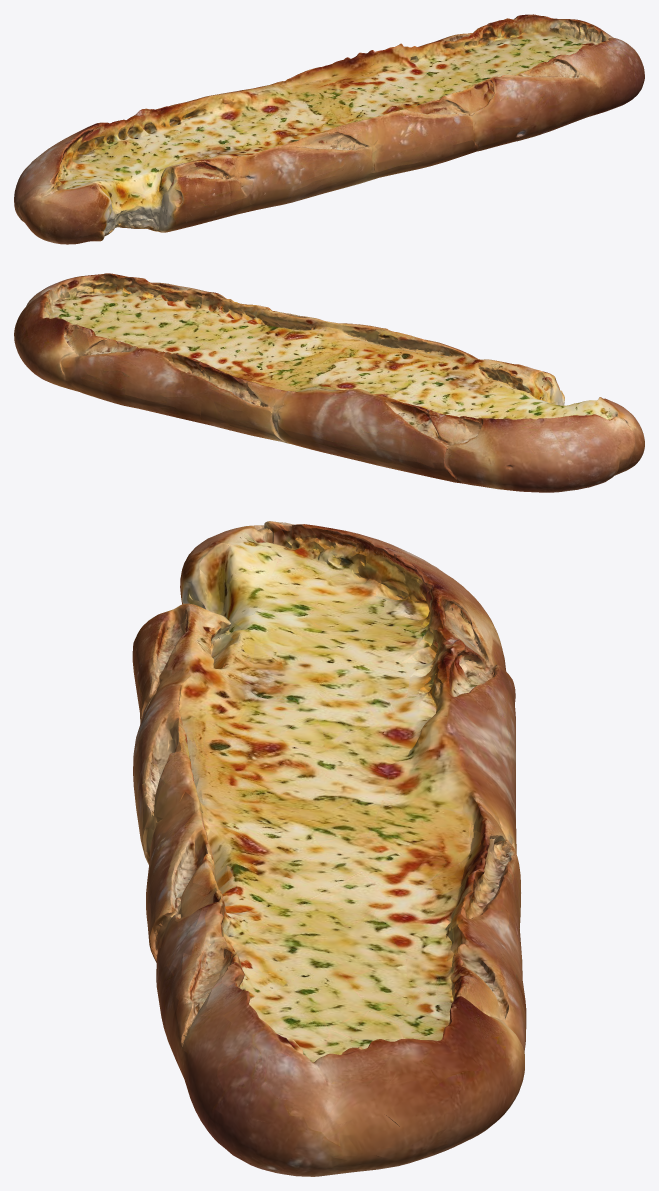
The model's file is sv_garlic.glb.
3 renders of one model, top to bottom at view 1: azimuth 30°, elevation 25°; view 2: azimuth 150°, elevation 25°; view 3: azimuth 270°, elevation 25°, orthographic. The views are drawn at different scales.
Bounding box in the file's own units: 1.9 × 0.211 × 0.5349.
1 material, 1 textured.
